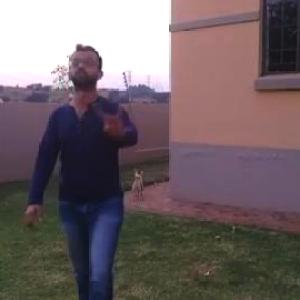takeoff-hand: (93, 98, 129, 136)
